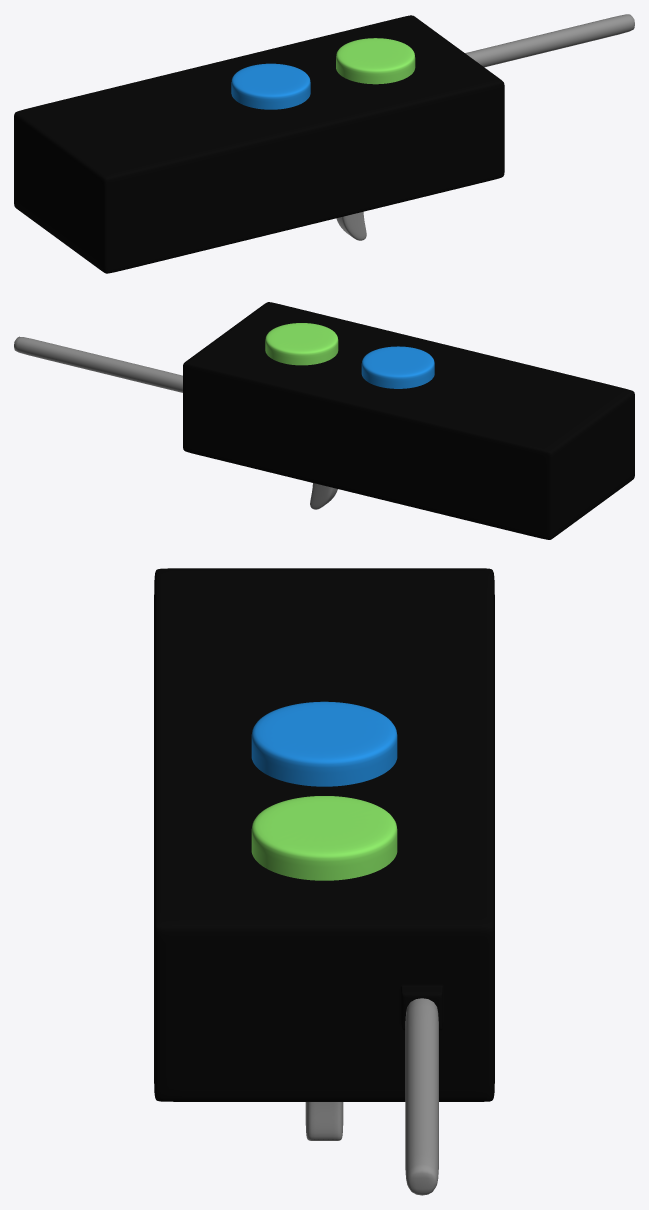
The model's file is Detonator.fbx.
3 renders of one model, top to bottom at view 1: azimuth 30°, elevation 25°; view 2: azimuth 150°, elevation 25°; view 3: azimuth 270°, elevation 25°, orthographic. The views are drawn at different scales.
Parts seen in each view (by area): view 1: Controller, LowButton, TopButton, Antenna, Trigger; view 2: Controller, Antenna, LowButton, TopButton, Trigger; view 3: Controller, LowButton, TopButton, Antenna, Trigger.
Part boxes in pixels (box(x1,y1,x2,y2)): Controller: box(14, 15, 504, 273); LowButton: box(231, 63, 310, 109); TopButton: box(336, 38, 415, 84); Antenna: box(465, 14, 634, 67); Trigger: box(336, 211, 366, 240); Controller: box(183, 302, 634, 539); Antenna: box(14, 336, 182, 392); LowButton: box(361, 346, 434, 388); TopButton: box(265, 323, 338, 365); Trigger: box(310, 483, 337, 509); Controller: box(154, 568, 494, 1101); LowButton: box(251, 701, 397, 786); TopButton: box(251, 796, 397, 880); Antenna: box(405, 998, 438, 1195); Trigger: box(305, 1102, 343, 1140).
Size of the model in its own units: 404 by 116 by 108.
